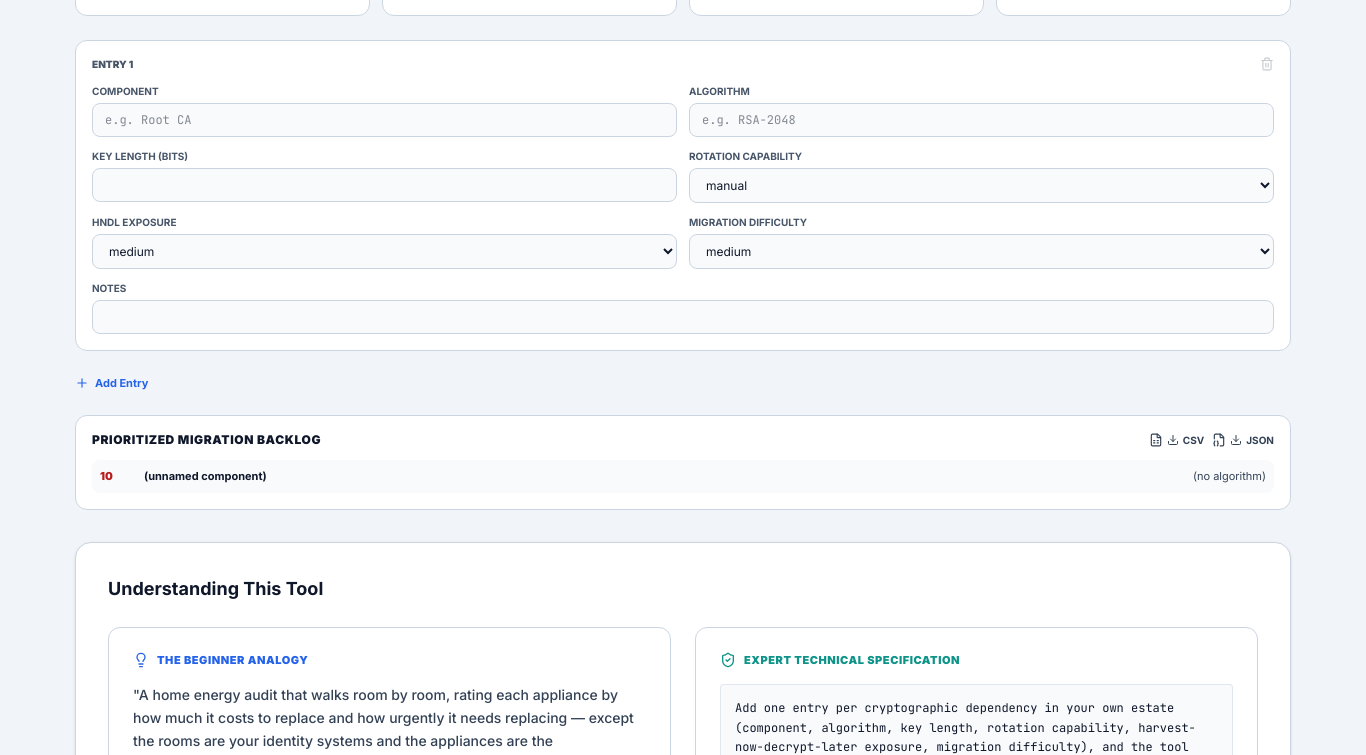
Scenario: CryptoAgilityInventoryBuilder tool page › adds a new entry when "Add Entry" is clicked
The image size is (1366, 755).
(page scrolled)
Click the button "Add Entry": {"x": 112, "y": 383} [75,374,148,391]
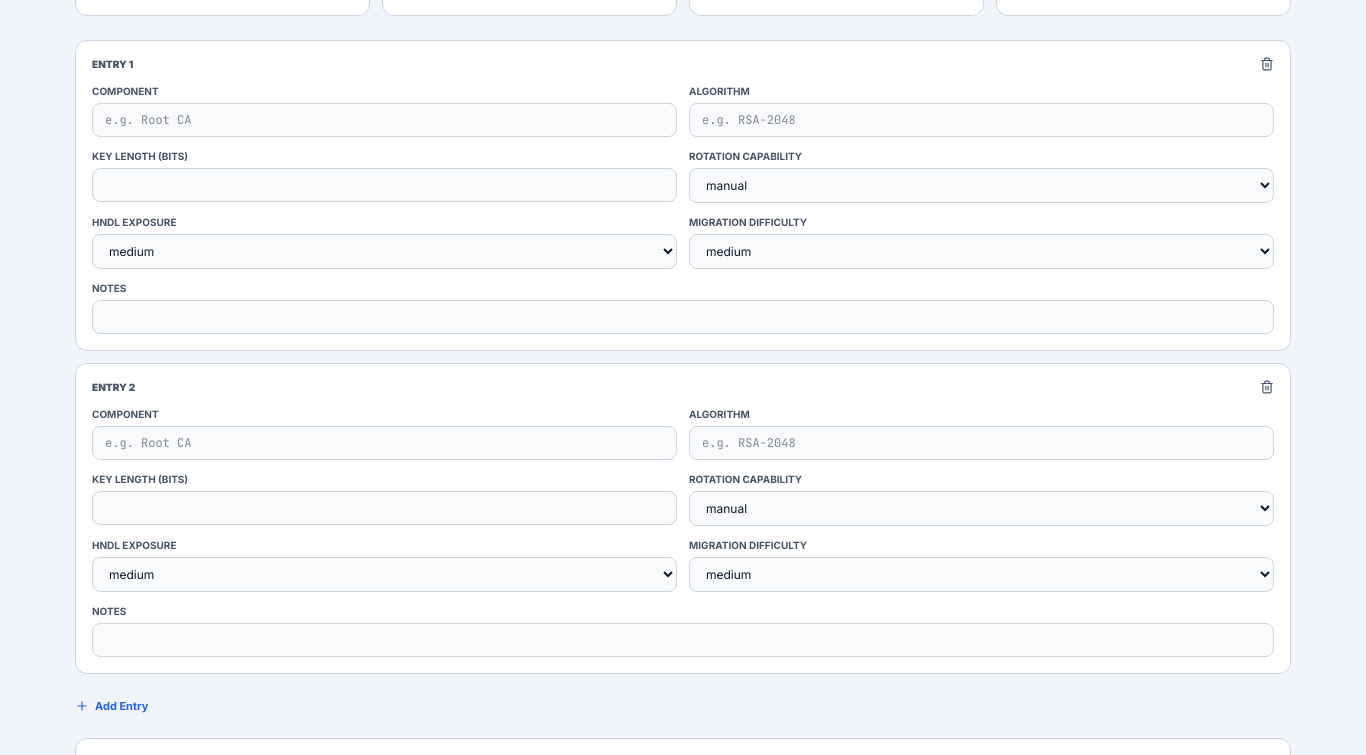
Now the text "Entry 2" is shown, box [92,380,135,394]
